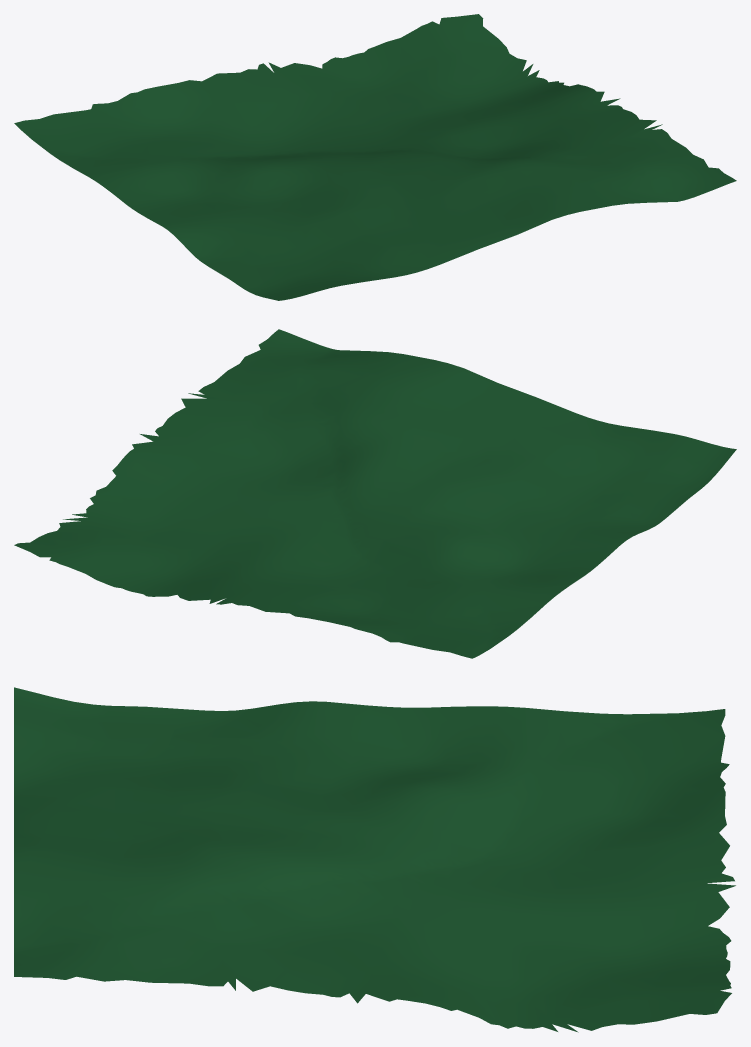
File: payo_land_xm3_ym3_lod1.glb
The picture shows the model from 3 angles, top to bottom: view 1: azimuth 30°, elevation 25°; view 2: azimuth 150°, elevation 25°; view 3: azimuth 270°, elevation 25°; orthographic projection. The views are drawn at different scales.
Parts seen in each view (by area): view 1: payo_land_xm3_ym3; view 2: payo_land_xm3_ym3; view 3: payo_land_xm3_ym3.
Boxes of the visible parts, left/top/right/bottom form: payo_land_xm3_ym3: left=14, top=14, right=736, bottom=300; payo_land_xm3_ym3: left=14, top=329, right=736, bottom=658; payo_land_xm3_ym3: left=14, top=687, right=735, bottom=1032.
Bounding box in the file's own units: 262 × 28.33 × 259.
